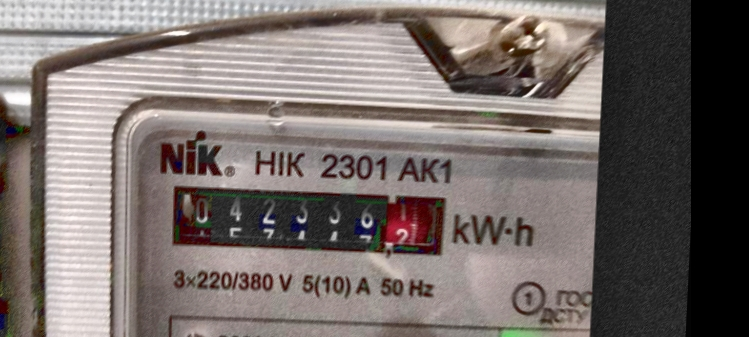0: (192, 196, 209, 224)
1: (395, 200, 408, 222)
2: (260, 195, 277, 225), (392, 225, 409, 244)
3: (324, 195, 341, 226), (292, 196, 308, 224)
4: (226, 192, 244, 222)
6: (358, 199, 376, 230)
screen: (158, 171, 458, 266)
